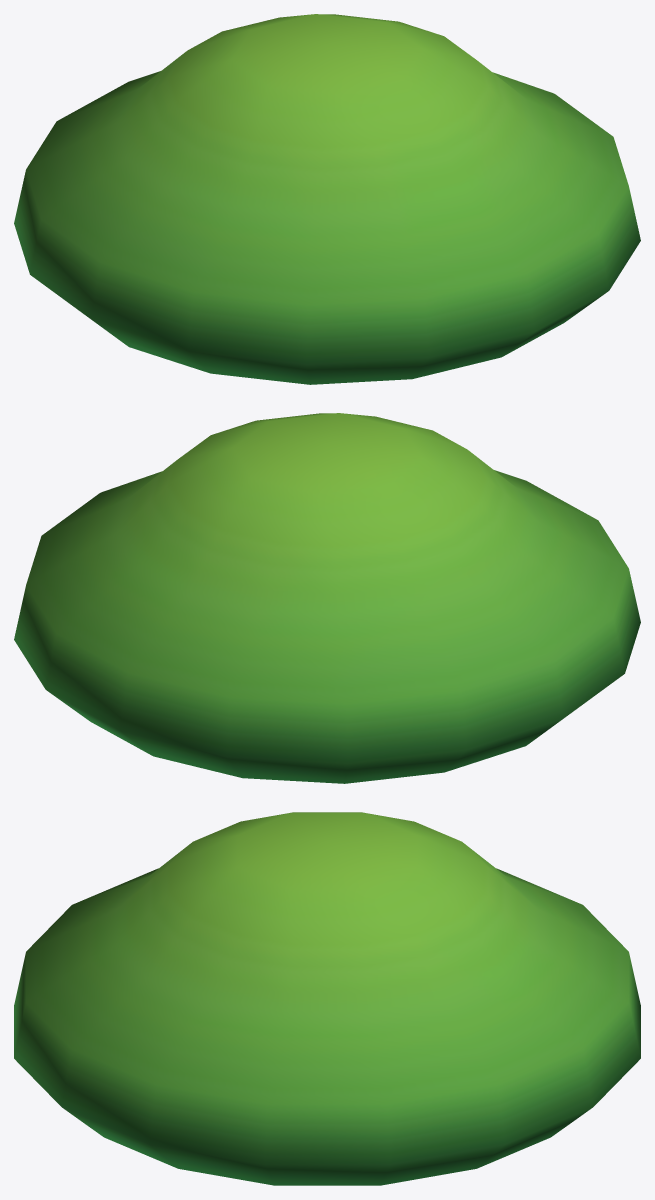
Rendered from bush_3_a_color1.glb.
The picture shows the model from 3 angles, top to bottom: view 1: azimuth 30°, elevation 25°; view 2: azimuth 150°, elevation 25°; view 3: azimuth 270°, elevation 25°; orthographic projection.
Parts seen in each view (by area): view 1: Bush_3_A_Color1; view 2: Bush_3_A_Color1; view 3: Bush_3_A_Color1.
Part boxes in pixels (x1,y1,x2,y2): Bush_3_A_Color1: (14,14,640,384); Bush_3_A_Color1: (14,413,640,783); Bush_3_A_Color1: (14,812,640,1185).
Bounding box in the file's own units: 1.03 × 0.4853 × 1.03.
Materials: 1 (1 with a texture image).
